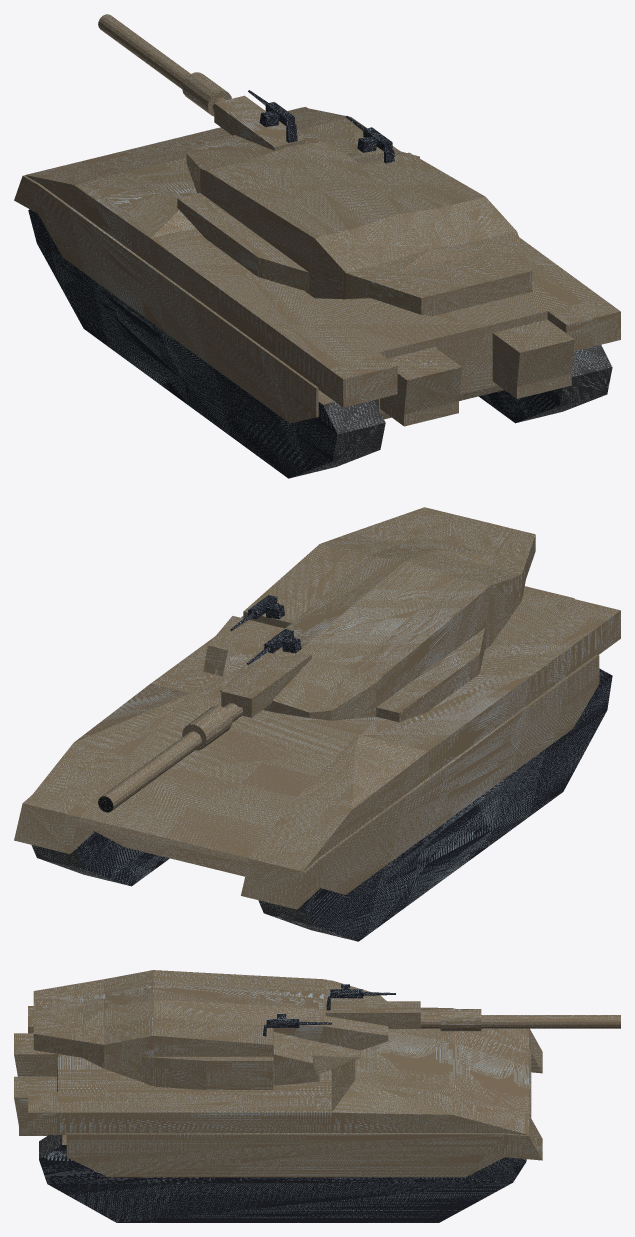
The model's file is NEWTANK.dae.
3 renders of one model, top to bottom at view 1: azimuth 30°, elevation 25°; view 2: azimuth 150°, elevation 25°; view 3: azimuth 270°, elevation 25°, orthographic. The views are drawn at different scales.
Visible parts, largest first — view 1: group_0 (×8), group_1 (×3); view 2: group_0 (×8), group_1 (×4); view 3: group_0 (×7), group_1 (×4), group_3, group_2.
Part boxes in pixels (x1,y1,x2,y2): group_0 (×8): (14, 107, 620, 478); group_1 (×3): (98, 14, 532, 316); group_0 (×8): (14, 586, 620, 941); group_1 (×4): (101, 507, 535, 810); group_0 (×7): (14, 1006, 542, 1222); group_1 (×4): (33, 970, 620, 1089); group_3: (330, 989, 395, 998); group_2: (266, 1019, 331, 1027).
Bounding box in the file's own units: 3.69 × 8.69 × 2.83.
